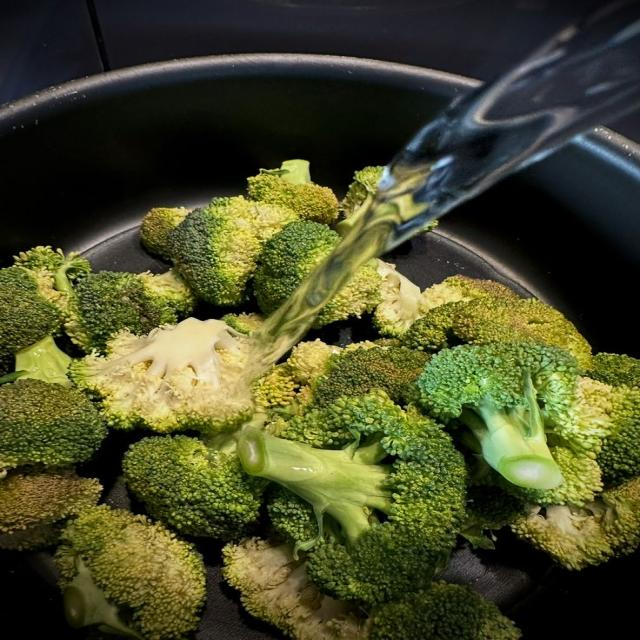broccoli: (238, 392, 466, 605), (223, 538, 520, 639), (418, 342, 605, 489), (70, 318, 252, 433), (55, 505, 206, 639), (123, 435, 265, 540), (223, 538, 367, 639), (166, 196, 298, 306), (401, 294, 591, 367), (511, 478, 639, 570), (65, 270, 196, 353), (0, 379, 106, 469), (367, 581, 521, 639), (0, 466, 102, 549), (254, 221, 339, 314), (311, 345, 430, 405), (0, 266, 63, 371), (583, 378, 639, 487), (247, 159, 339, 224), (373, 260, 426, 337), (337, 166, 385, 235), (423, 274, 519, 308), (15, 336, 72, 386), (140, 207, 189, 260), (340, 166, 384, 218), (587, 352, 639, 386), (220, 312, 264, 334)
